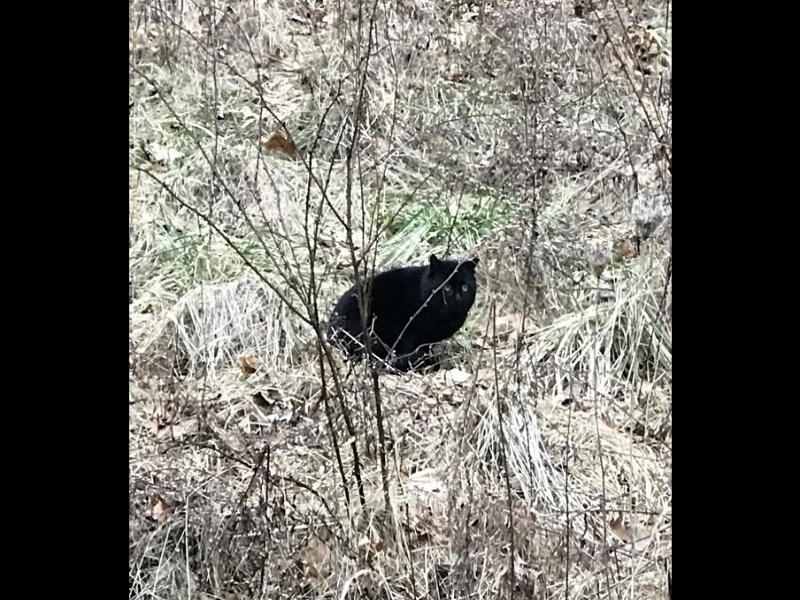cat: (322, 249, 481, 380)
